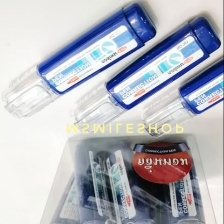correction_fluid: (62, 12, 223, 136), (0, 0, 160, 124), (137, 40, 224, 141), (152, 137, 208, 223), (103, 138, 157, 224), (70, 140, 117, 224)
